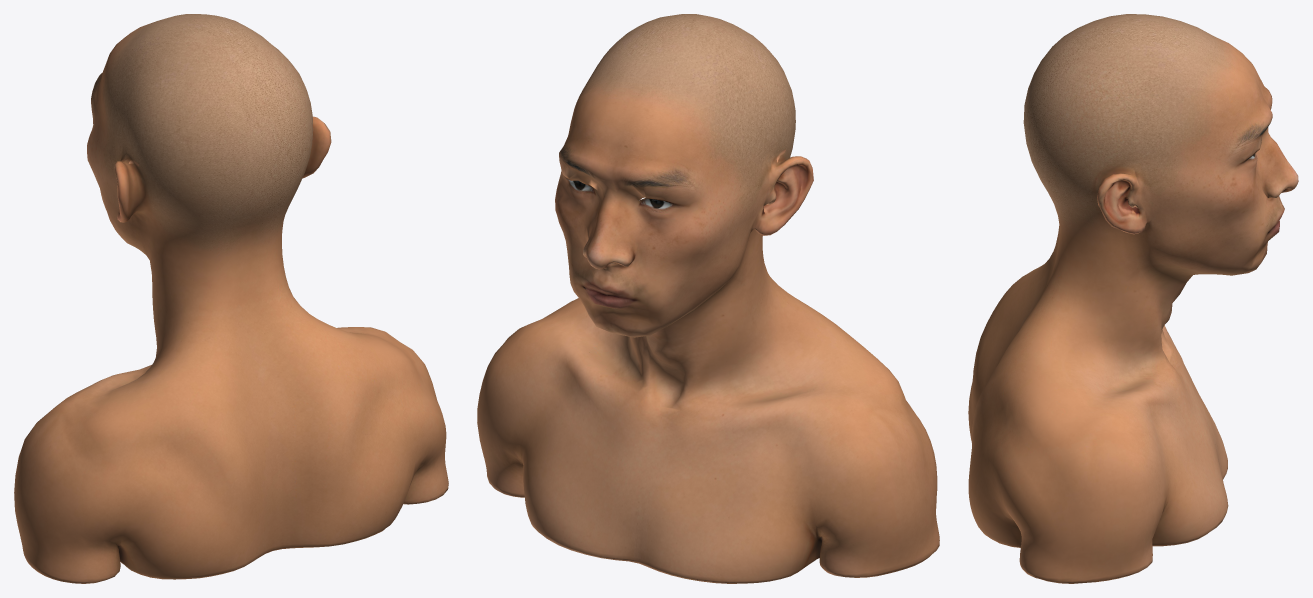
Rendered from Model_HairHead_Donggua.glb.
3 renders of one model, left to right at view 1: azimuth 30°, elevation 25°; view 2: azimuth 150°, elevation 25°; view 3: azimuth 270°, elevation 25°, orthographic. The views are drawn at different scales.
Parts seen in each view (by area): view 1: HairHead_Donggua; view 2: HairHead_Donggua; view 3: HairHead_Donggua.
Boxes of the visible parts, x1=… form: HairHead_Donggua: x1=14, y1=14, x2=448, y2=583; HairHead_Donggua: x1=477, y1=14, x2=939, y2=583; HairHead_Donggua: x1=968, y1=14, x2=1298, y2=583.
Bounding box in the file's own units: 0.39 × 0.4342 × 0.279.
Materials: 1 (1 with a texture image).
